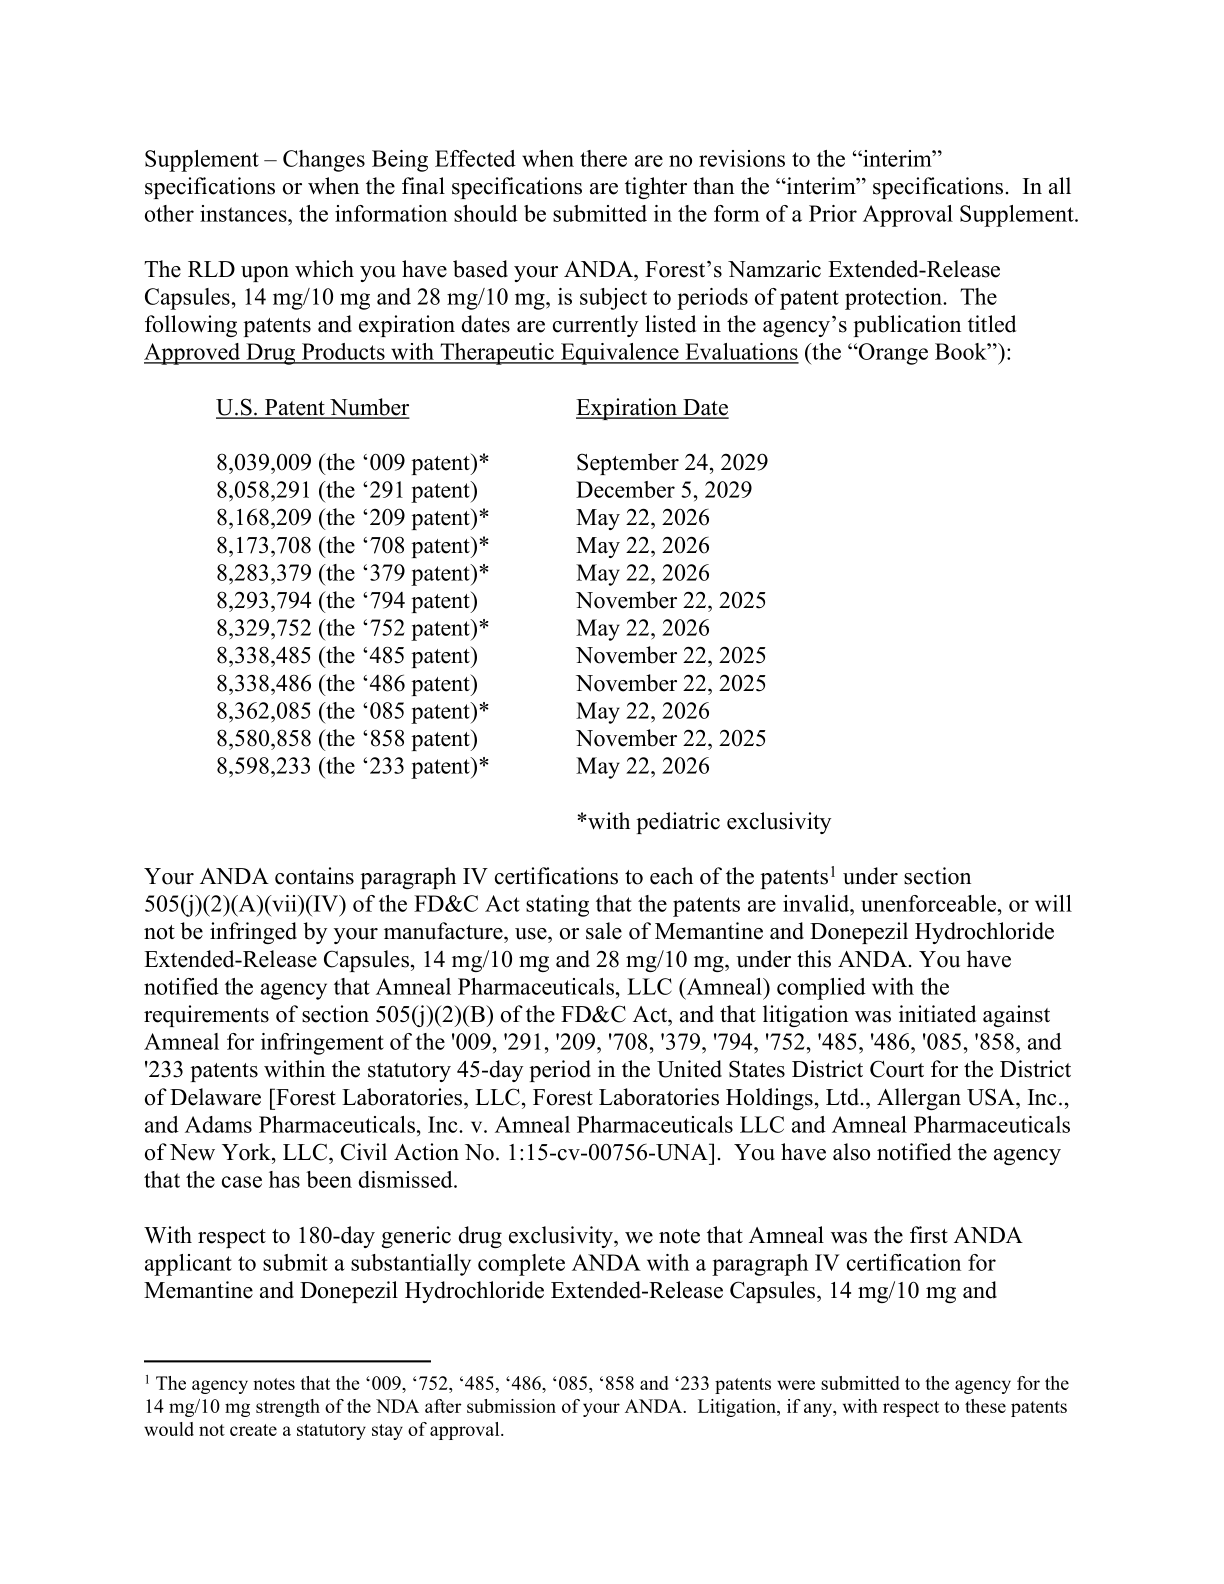nolines: (213, 393, 770, 780)
